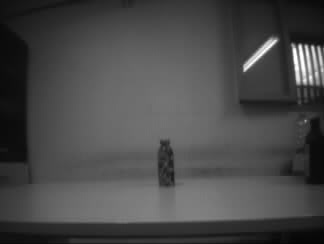Bottle: (157, 138, 174, 187)
